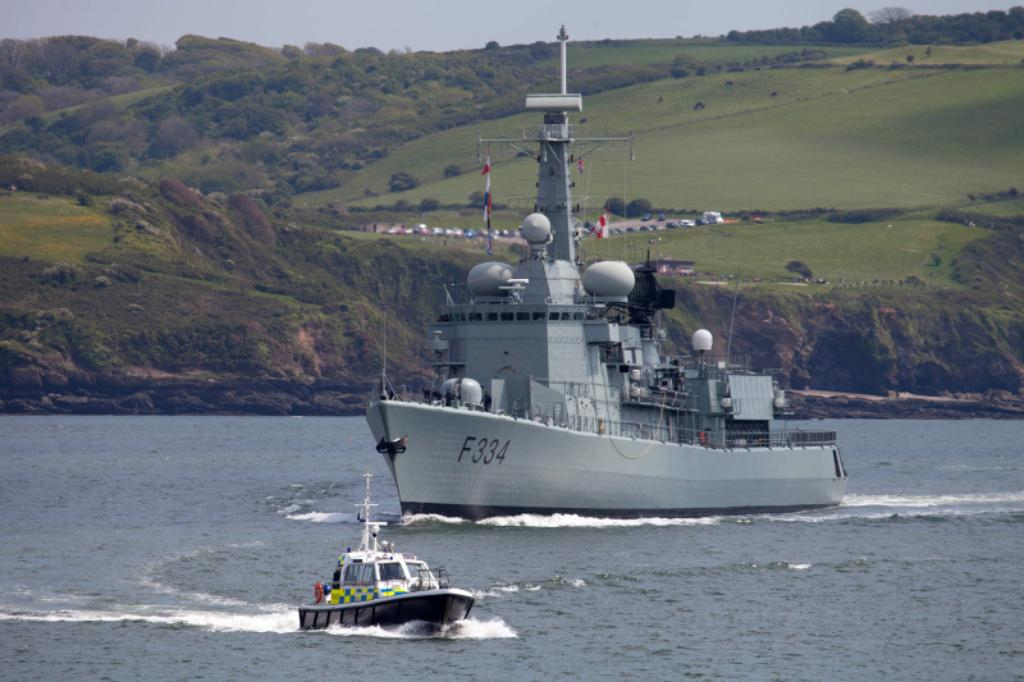Warship: (352, 26, 852, 526)
